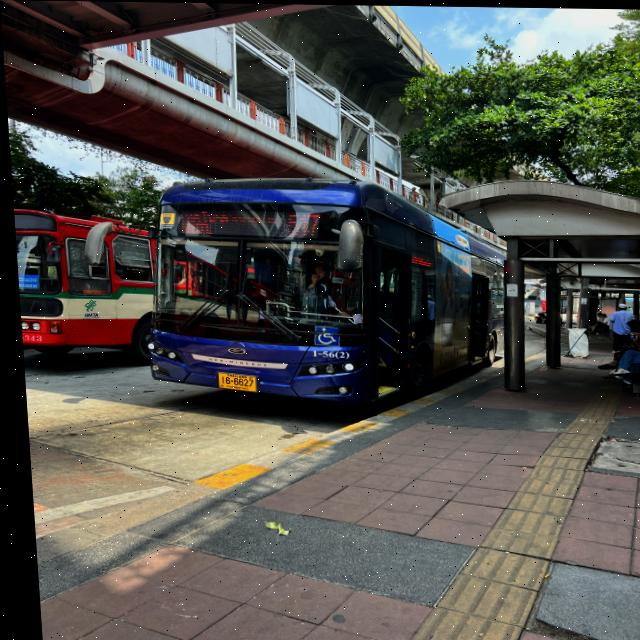BMTA-bus: (11, 207, 158, 370)
Bus-Line-Number: (279, 209, 321, 239)
Destination-Sign-Normal: (172, 209, 279, 239)
TSB-Bus: (128, 170, 509, 422)
